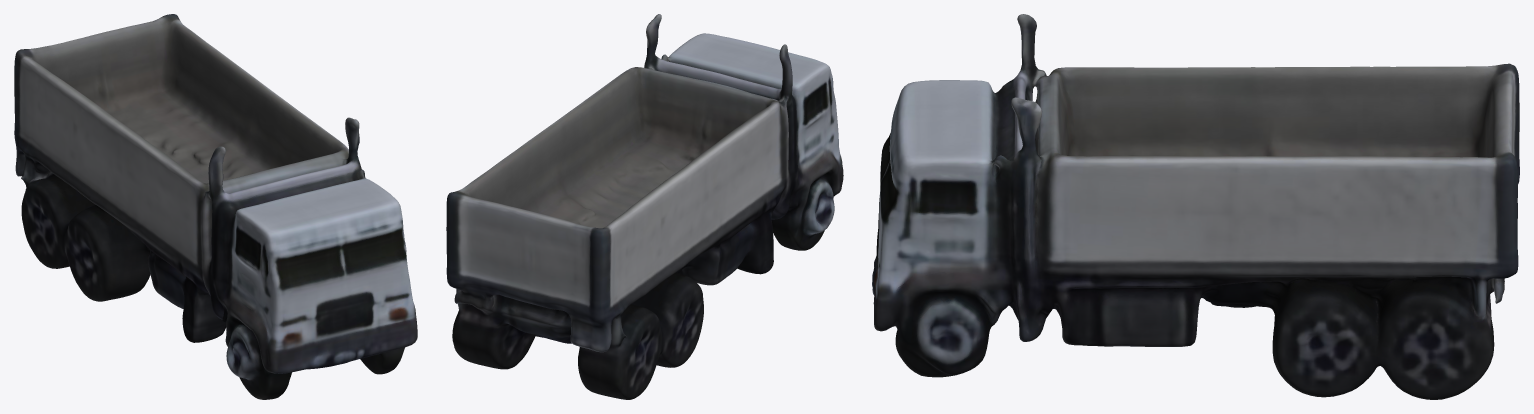
Rendered from 7540f9c77786_truck__3d_asset_0_glb.glb.
The picture shows the model from 3 angles, left to right: view 1: azimuth 30°, elevation 25°; view 2: azimuth 150°, elevation 25°; view 3: azimuth 270°, elevation 25°; orthographic projection. The views are drawn at different scales.
Visible parts, largest first — view 1: world; view 2: world; view 3: world.
Boxes of the visible parts, x1,y1,x2,y2 form: world: (14, 14, 417, 399); world: (446, 14, 843, 399); world: (872, 14, 1519, 399).
Size of the model in its own units: 0.2168 by 0.2783 by 0.5502.
Materials: 1 (1 with a texture image).
